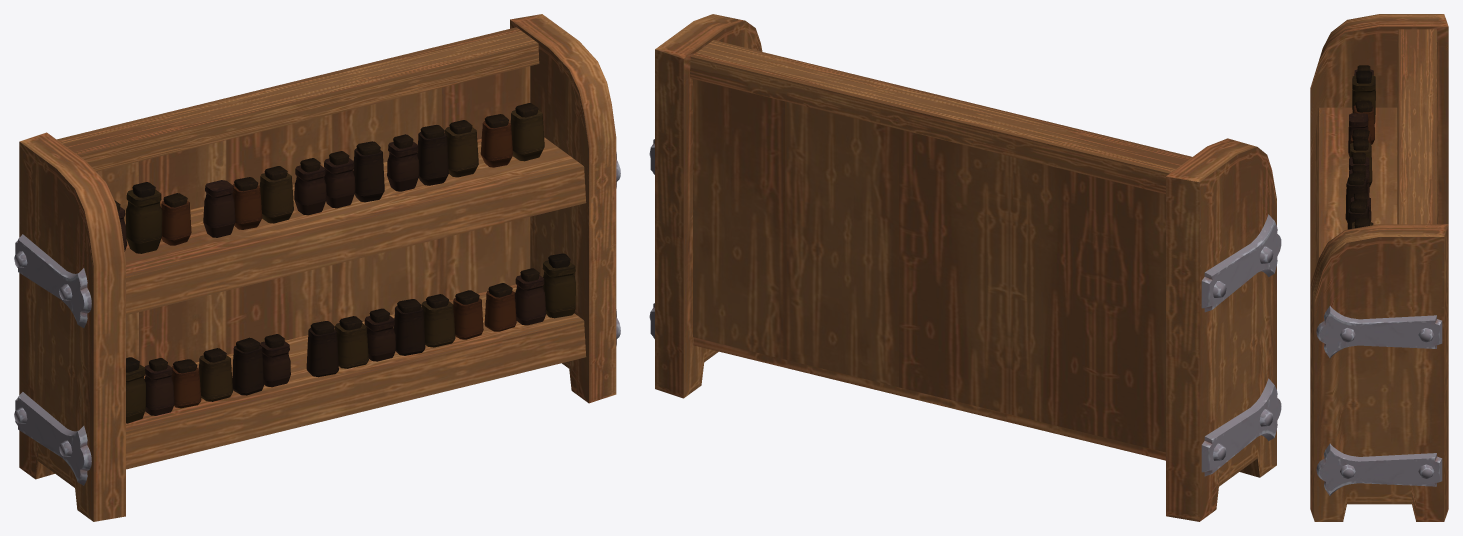
The model's file is Shelf_Small_Bottles.gltf.
3 renders of one model, left to right at view 1: azimuth 30°, elevation 25°; view 2: azimuth 150°, elevation 25°; view 3: azimuth 270°, elevation 25°, orthographic. The views are drawn at different scales.
Parts seen in each view (by area): view 1: Shelf_Small_Bottles; view 2: Shelf_Small_Bottles; view 3: Shelf_Small_Bottles.
Boxes of the visible parts, left/top/right/bottom form: Shelf_Small_Bottles: left=14, top=14, right=620, bottom=521; Shelf_Small_Bottles: left=649, top=14, right=1281, bottom=521; Shelf_Small_Bottles: left=1310, top=14, right=1448, bottom=521.
Size of the model in its own units: 1.14 by 0.6474 by 0.2846.
3 materials, 3 textured.
